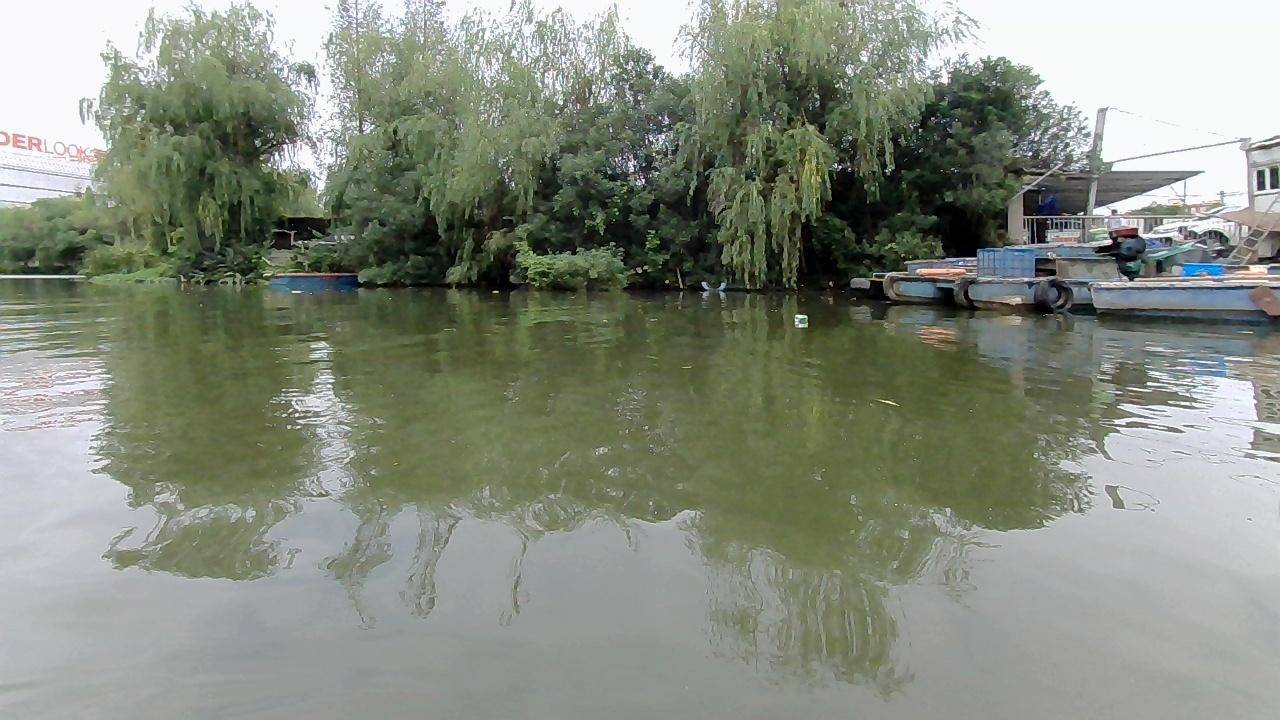bottle: (790, 311, 810, 325)
